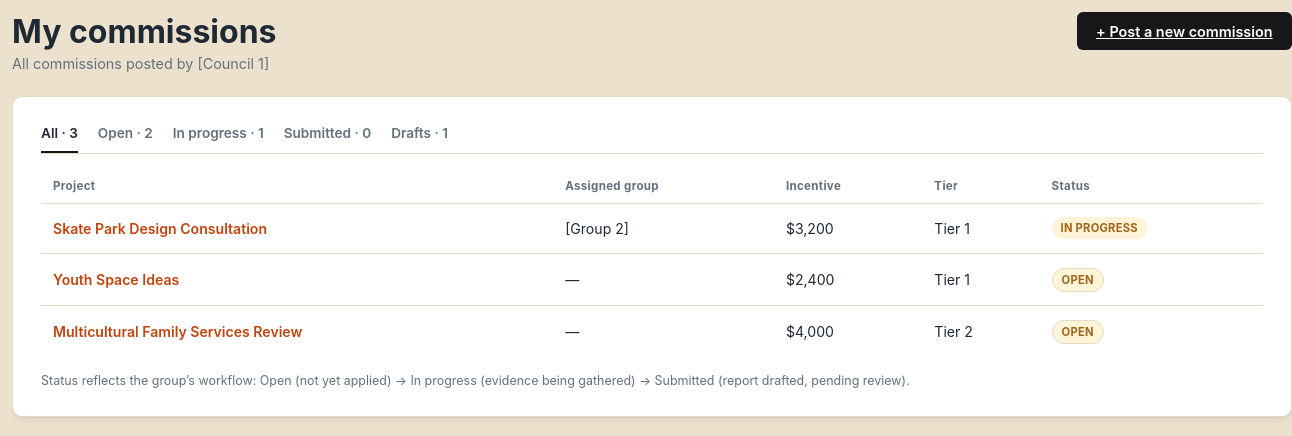
Test: Commission drafts › deletes a draft from the Drafts tab
The image size is (1292, 436).
Click the tab "Drafts · 1" at (420, 139), box [391,125,448,153]
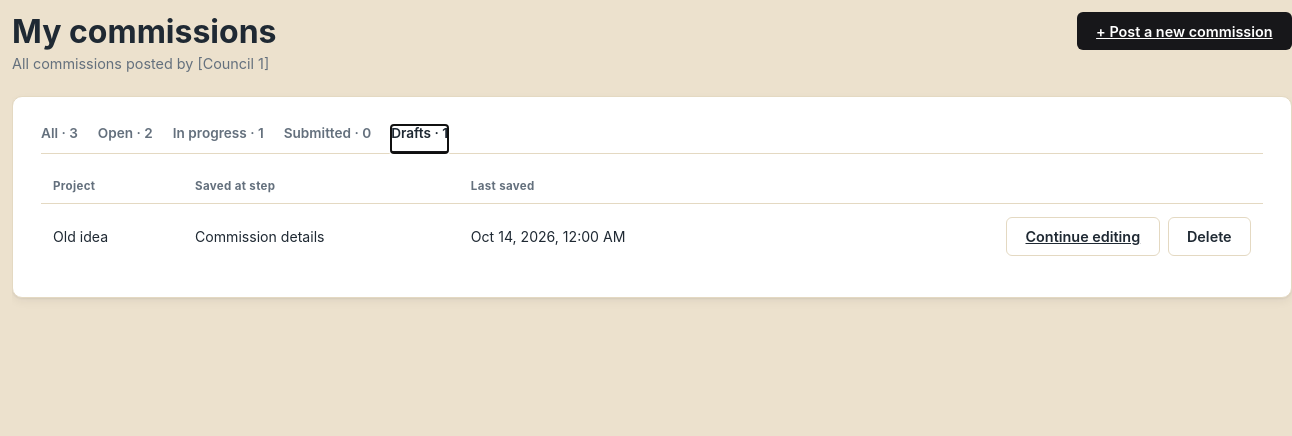
Click the button "Delete" at (1209, 236), box [1168,217,1251,256]
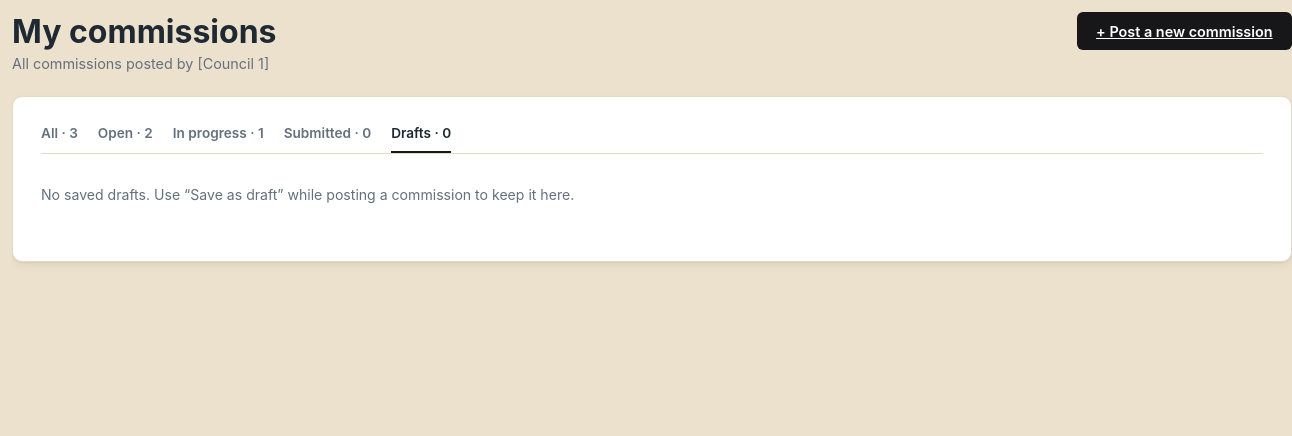
Now the text "No saved drafts" is shown, box [41,186,574,203]
